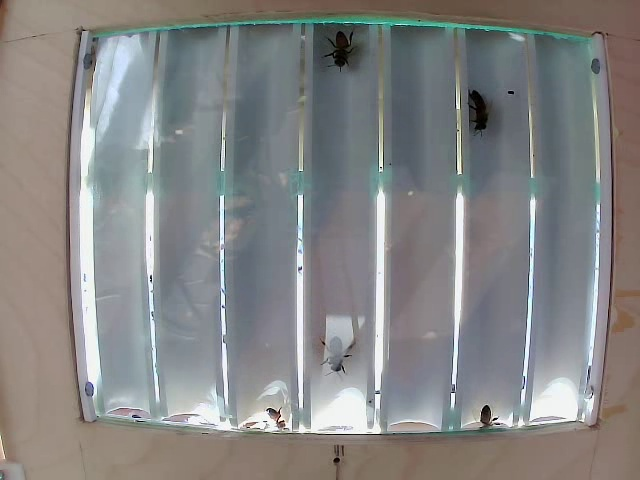bee: (321, 322, 365, 366), (326, 34, 362, 79), (452, 98, 488, 125)
